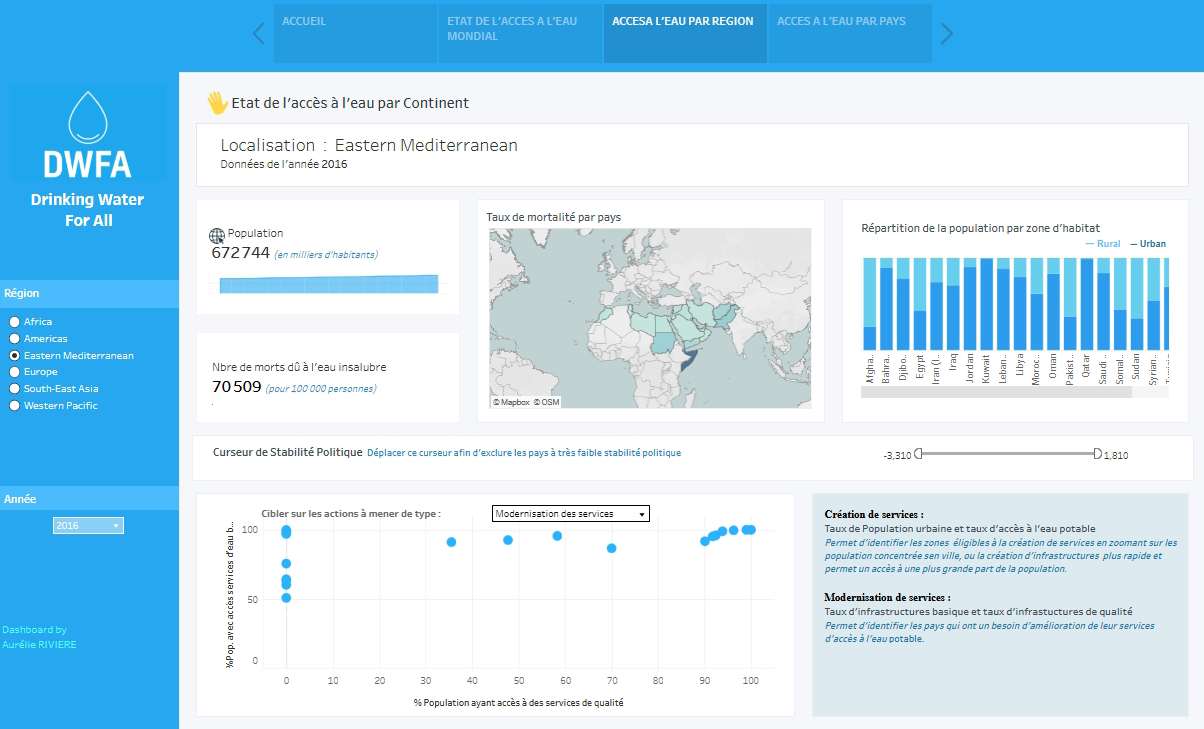

The dashboard page shown, as its layout file describes it:
{"tool":"tableau","page":{"name":"VueContinent","canvas":[1650,1000],"ordinal":1},"visuals":[{"type":"image","param":"C:/Users/Aurelie 01Formatic/Desktop/logo.png","box":[0,10,250,128]},{"type":"image","param":"C:/Users/Aurelie 01Formatic/Dropbox/Formation Data Analyst/PROJET 10 - Faites un","box":[281,21,32,33]},{"type":"text","box":[313,21,1306,33]},{"type":"worksheet","title":"InfosRegion","mark":"Automatic","box":[292,67,1316,66]},{"type":"text","box":[0,138,250,70]},{"type":"text","box":[619,164,495,24]},{"type":"worksheet","title":"PopRegion","mark":"Automatic","box":[283,174,294,71]},{"type":"text","box":[1164,174,444,53]},{"type":"image","param":"C:/Users/Aurelie 01Formatic/Dropbox/Formation Data Analyst/PROJET 10 - Faites un","box":[285,177,32,33]},{"type":"worksheet","title":"CarteMortalité","mark":"Multipolygon","box":[619,188,495,329]},{"type":"worksheet","title":"FiltresRegion","mark":"Automatic","box":[0,208,250,42]},{"type":"worksheet","title":"RepartitionPop","mark":"Automatic","rows":["Calculation_1242430592816422919"],"cols":["Country"],"box":[1164,227,444,291]},{"type":"worksheet","title":"EvoPopRegion","mark":"Area","rows":["Population"],"cols":["Year"],"box":[283,245,294,124]},{"type":"text","box":[0,250,250,44]},{"type":"filter","title":"FiltresRegion","param":"[federated.0qpxvex1ik4esz1cevycs06ncdh8].[none:REGION (DISPLAY):nk]","box":[0,294,250,162]},{"type":"worksheet","title":"NbreMortContinent","mark":"Automatic","box":[282,425,295,92]},{"type":"blank","box":[0,456,250,38]},{"type":"text","box":[0,494,250,47]},{"type":"filter","title":"FiltreAn","param":"[federated.0qpxvex1ik4esz1cevycs06ncdh8].[yr:Year:ok]","box":[0,541,250,49]},{"type":"text","box":[292,565,1316,50]},{"type":"filter","title":"CréaServices","param":"[federated.0qpxvex1ik4esz1cevycs06ncdh8].[none:Political_Stability:qk]","box":[536,568,344,36]},{"type":"worksheet","title":"FiltreAn","mark":"Automatic","box":[0,590,250,320]},{"type":"parameter","param":"[Parameters].[Paramètre 10]","box":[659,645,218,71]},{"type":"text","box":[379,650,311,42]},{"type":"worksheet","title":"CréaServices","mark":"Circle","rows":["Population using at least basic drinking-water services (%)"],"cols":["Calculation_448952632076058626"],"box":[292,670,712,303]},{"type":"text","box":[1066,670,542,274]},{"type":"text","box":[0,910,250,58]},{"type":"worksheet","title":"ModernServices","mark":"Circle","rows":["Population using at least basic drinking-water services (%)"],"cols":["Population using safely managed drinking-water services (%)"],"box":[292,973,712,1]}]}

Visuals, with their boxes in screenshot pixels (x1, y1, x2, y2), scaled from the page's 1650x1000 canvas onto the 1204x729 screenshot:
image: [0, 7, 182, 101]
image: [205, 15, 228, 39]
text: [228, 15, 1181, 39]
"InfosRegion" worksheet: [213, 49, 1173, 97]
text: [0, 101, 182, 152]
text: [452, 120, 813, 137]
"PopRegion" worksheet: [207, 127, 421, 179]
text: [849, 127, 1173, 165]
image: [208, 129, 231, 153]
"CarteMortalité" worksheet (Multipolygon marks): [452, 137, 813, 377]
"FiltresRegion" worksheet: [0, 152, 182, 182]
"RepartitionPop" worksheet: [849, 165, 1173, 378]
"EvoPopRegion" worksheet (Area marks): [207, 179, 421, 269]
text: [0, 182, 182, 214]
"FiltresRegion" filter: [0, 214, 182, 332]
"NbreMortContinent" worksheet: [206, 310, 421, 377]
blank: [0, 332, 182, 360]
text: [0, 360, 182, 394]
"FiltreAn" filter: [0, 394, 182, 430]
text: [213, 412, 1173, 448]
"CréaServices" filter: [391, 414, 642, 440]
"FiltreAn" worksheet: [0, 430, 182, 663]
parameter: [481, 470, 640, 522]
text: [277, 474, 503, 504]
"CréaServices" worksheet (Circle marks): [213, 488, 733, 709]
text: [778, 488, 1173, 688]
text: [0, 663, 182, 706]
"ModernServices" worksheet (Circle marks): [213, 709, 733, 710]
